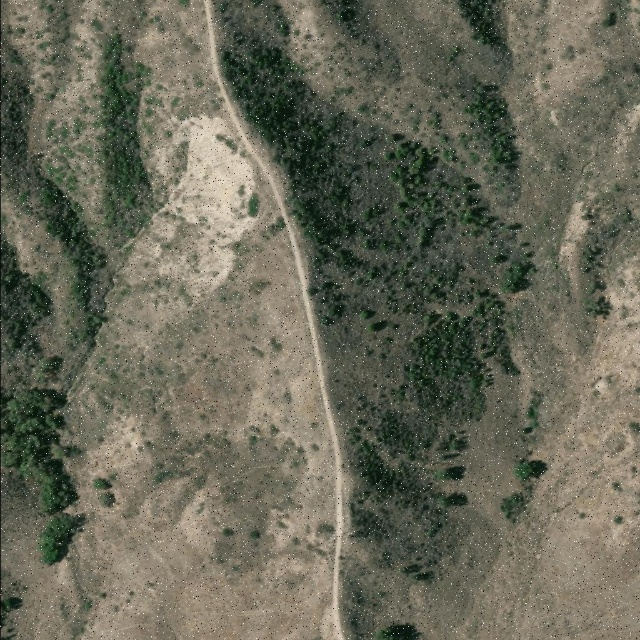vegetation: (207, 0, 540, 588), (0, 68, 109, 354), (0, 238, 82, 569), (93, 30, 153, 235), (579, 211, 640, 317), (499, 394, 546, 524), (468, 74, 519, 173), (455, 0, 508, 62), (0, 585, 28, 640), (377, 625, 423, 640)
